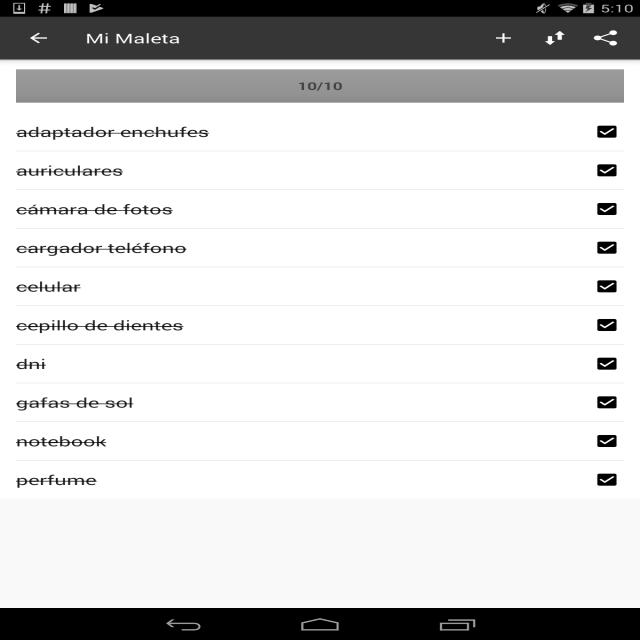CheckedTextView: (16, 112, 624, 150), (16, 152, 624, 190), (16, 190, 624, 228), (16, 228, 624, 266), (16, 268, 624, 306), (16, 306, 624, 344), (16, 344, 624, 382), (16, 384, 624, 422), (16, 422, 624, 460), (16, 461, 624, 498)
ImageButton: (9, 17, 68, 59)
ProgressBar: (16, 69, 624, 103)
TextView: (86, 29, 180, 47), (580, 22, 632, 54), (478, 22, 529, 54), (529, 22, 580, 54), (298, 79, 342, 93)
